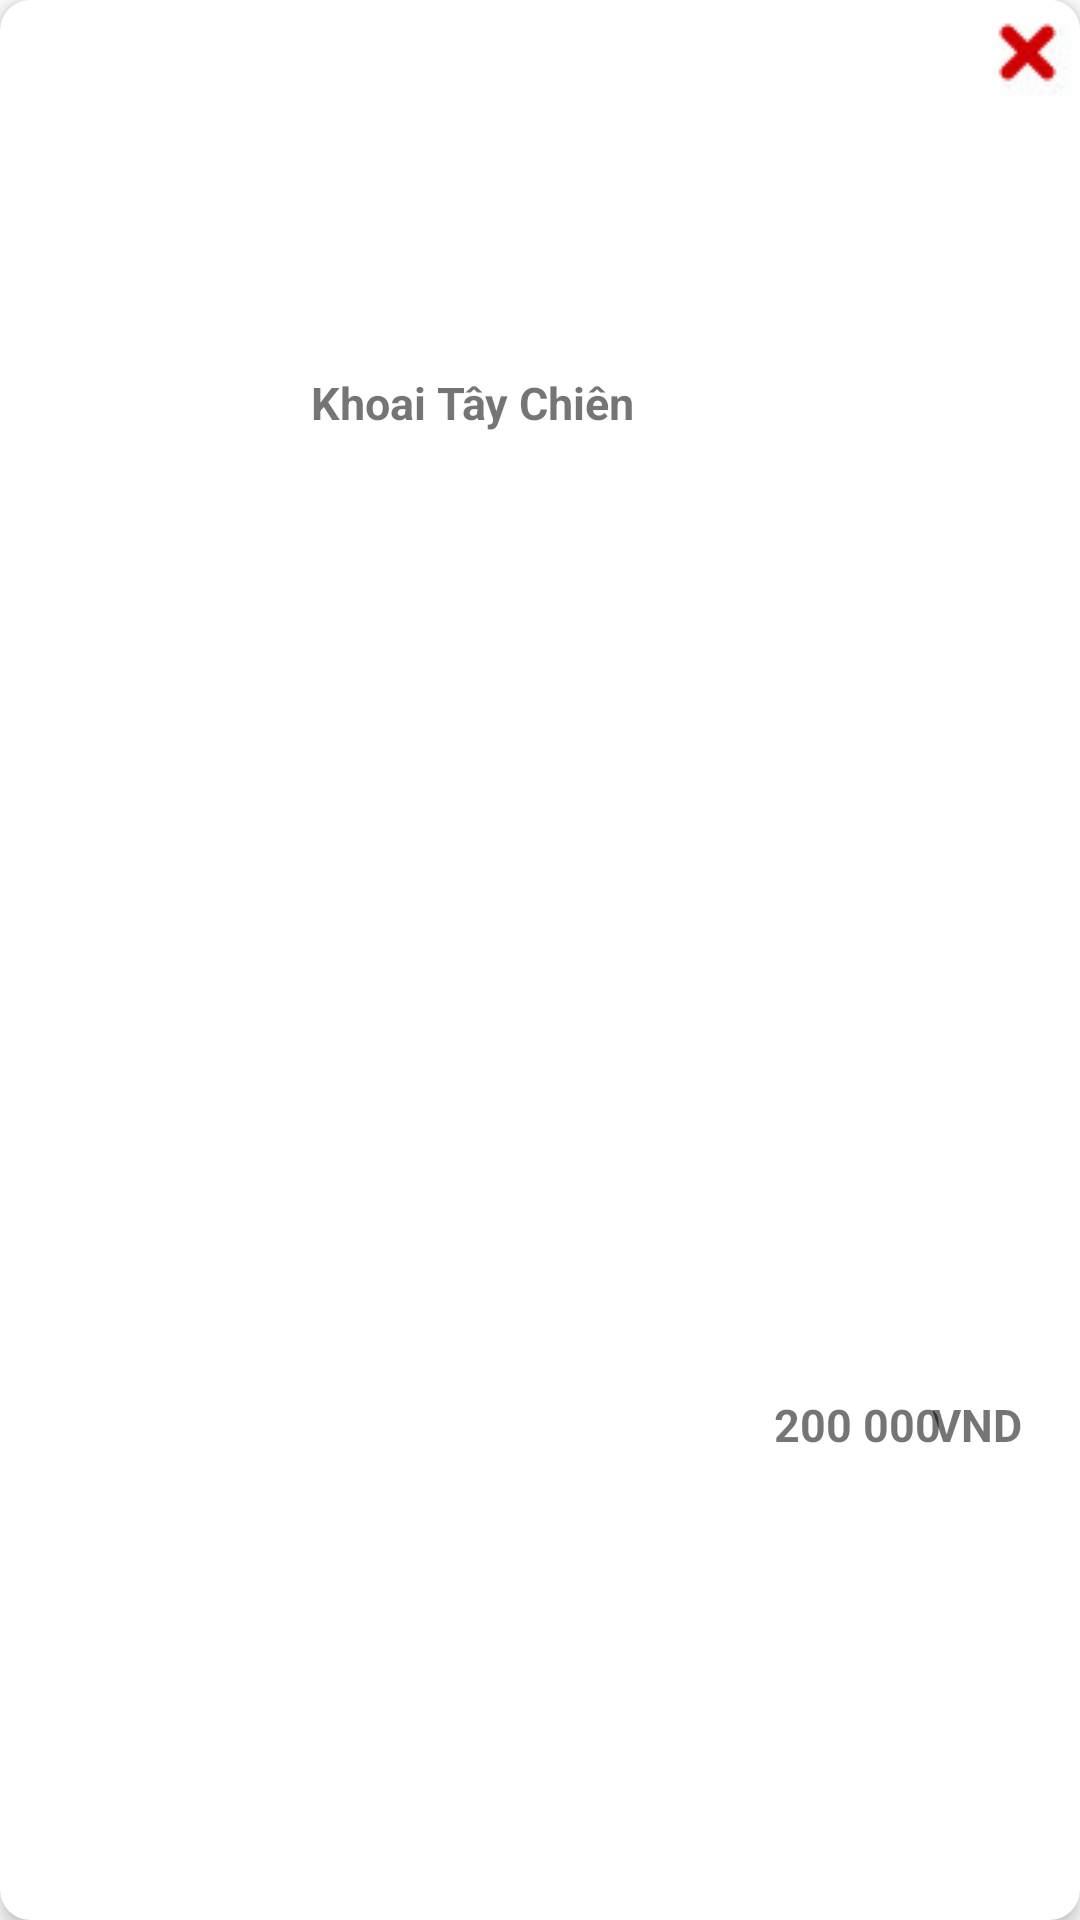

Screen size 1080px×1920px. Icon name, then its center in pixels as point (x, y):
del: point (1039, 41)
